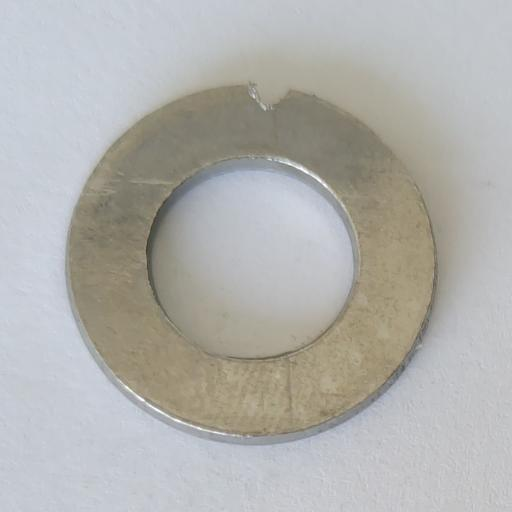burr: (246, 77, 294, 114)
